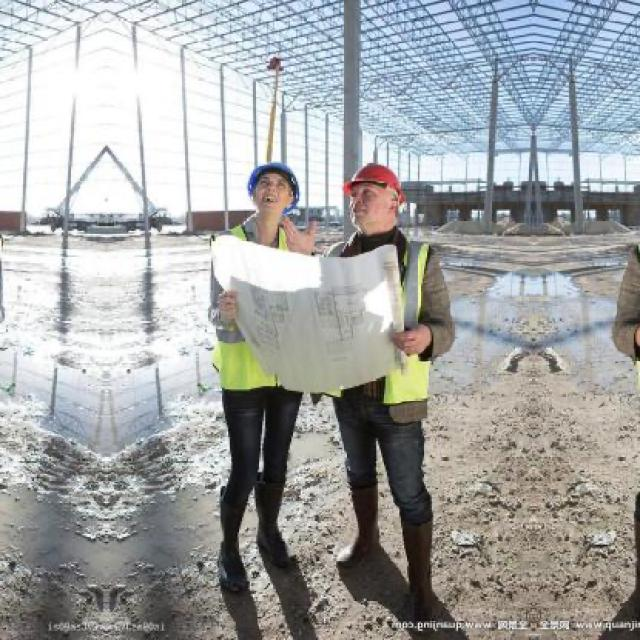con casco: (220, 136, 337, 234), (326, 172, 433, 247)
